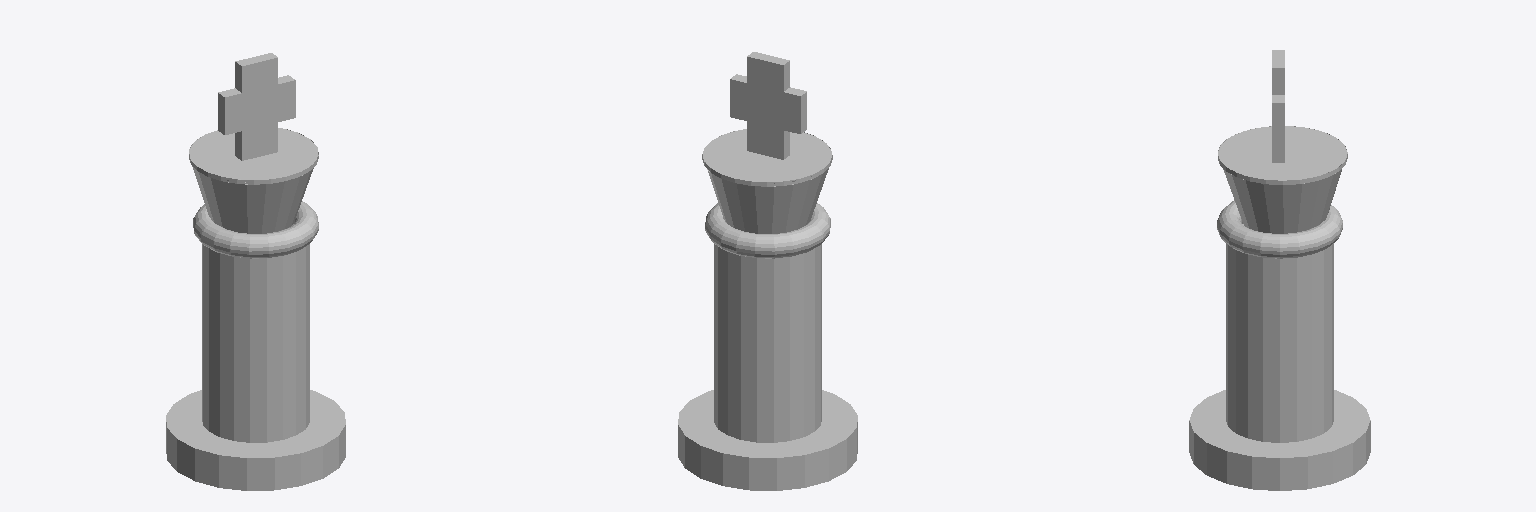
The model's file is king.obj.
The picture shows the model from 3 angles: view 1: azimuth 30°, elevation 25°; view 2: azimuth 150°, elevation 25°; view 3: azimuth 270°, elevation 25°; orthographic projection.
Visible parts, largest first — view 1: pCylinder2, pCylinder1, pCone1, nurbsToPoly3, pasted__pCube1 group1, pTorus1, pCube1, nurbsToPoly1; view 2: pCylinder2, pCylinder1, pCone1, nurbsToPoly3, pTorus1, pCube1, pasted__pCube1 group1, nurbsToPoly1; view 3: pCylinder2, pCylinder1, nurbsToPoly3, pCone1, pTorus1, pasted__pCube1 group1, nurbsToPoly1, pCube1.
Boxes of the visible parts, x1,y1,x2,y2 form: pCylinder2: [202, 244, 309, 442]; pCylinder1: [166, 390, 345, 490]; pCone1: [189, 153, 316, 233]; nurbsToPoly3: [189, 128, 318, 179]; pasted__pCube1 group1: [235, 53, 277, 160]; pTorus1: [193, 201, 318, 258]; pCube1: [218, 75, 295, 134]; nurbsToPoly1: [189, 129, 318, 184]; pCylinder2: [714, 244, 821, 442]; pCylinder1: [678, 390, 857, 490]; pCone1: [705, 162, 829, 233]; nurbsToPoly3: [703, 129, 831, 181]; pTorus1: [705, 203, 830, 258]; pCube1: [730, 74, 806, 133]; pasted__pCube1 group1: [747, 52, 789, 159]; nurbsToPoly1: [702, 131, 832, 186]; pCylinder2: [1226, 224, 1333, 442]; pCylinder1: [1189, 390, 1370, 490]; nurbsToPoly3: [1218, 126, 1347, 180]; pCone1: [1219, 158, 1341, 233]; pTorus1: [1217, 200, 1342, 258]; pasted__pCube1 group1: [1272, 50, 1284, 162]; nurbsToPoly1: [1218, 126, 1347, 184]; pCube1: [1272, 95, 1284, 140].
Size of the model in its own units: 2 by 4.79 by 2.